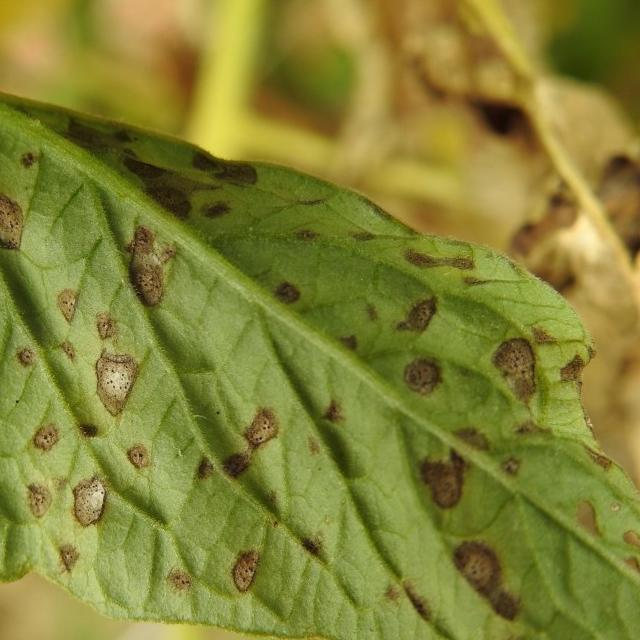Tomato Septoria leaf spot: (0, 32, 640, 640)
